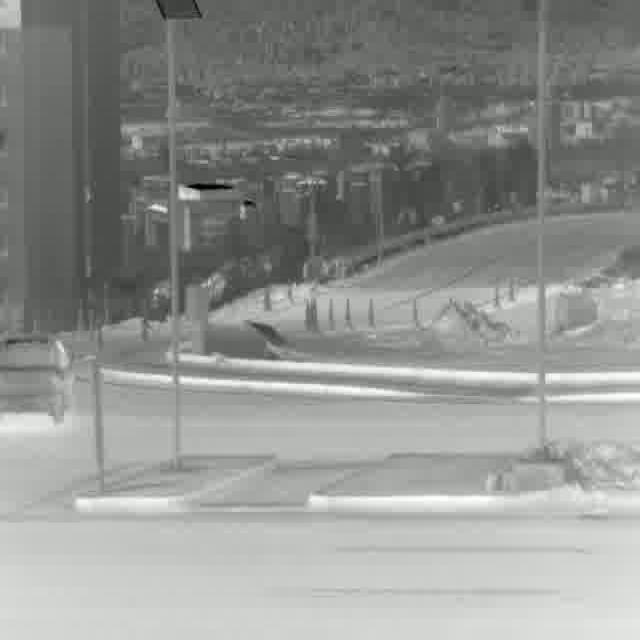Car: (0, 327, 76, 421)
